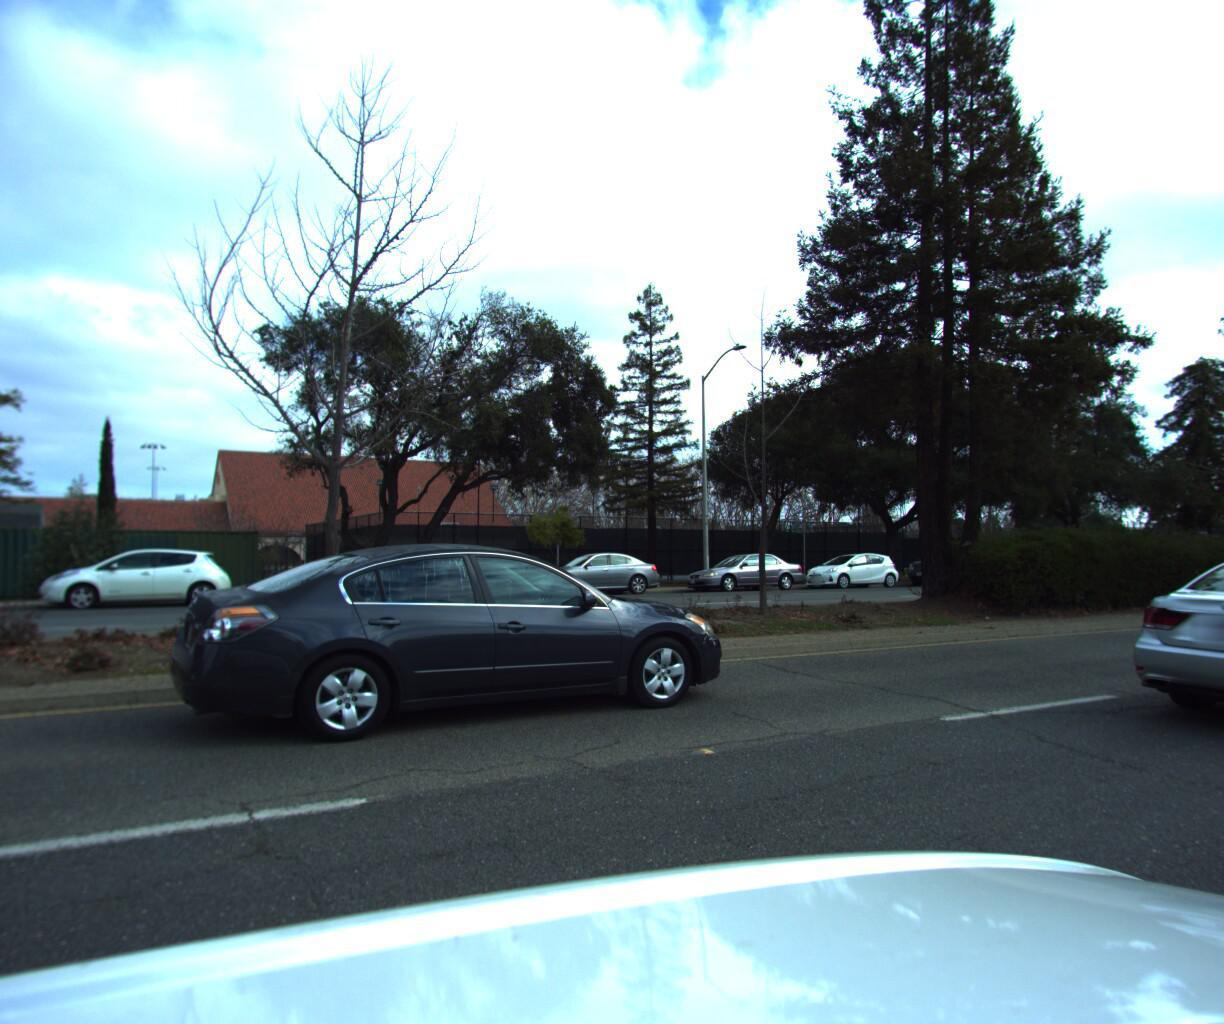car: (168, 540, 742, 766), (1085, 542, 1224, 774), (30, 541, 237, 611), (304, 546, 474, 608), (512, 546, 665, 598), (675, 548, 806, 593), (896, 539, 1009, 585), (795, 547, 901, 590)
